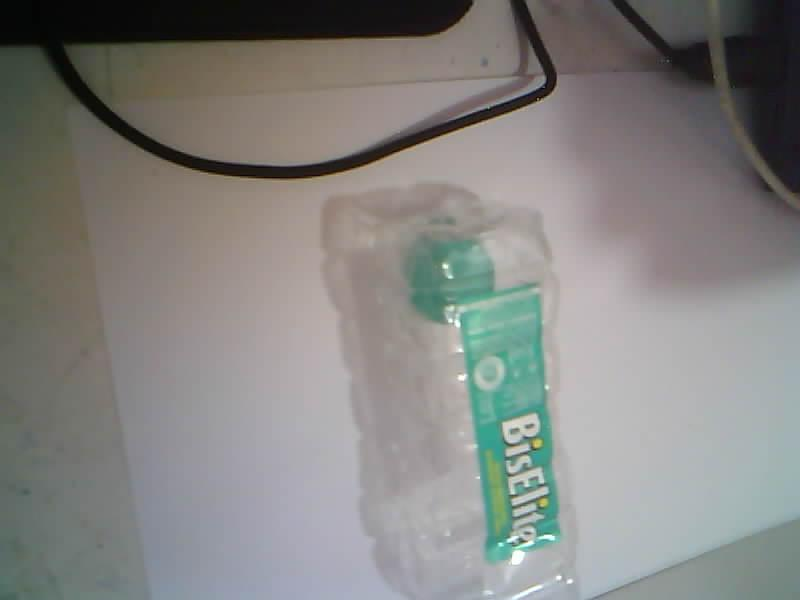non-biodegradable: (326, 189, 575, 599)
